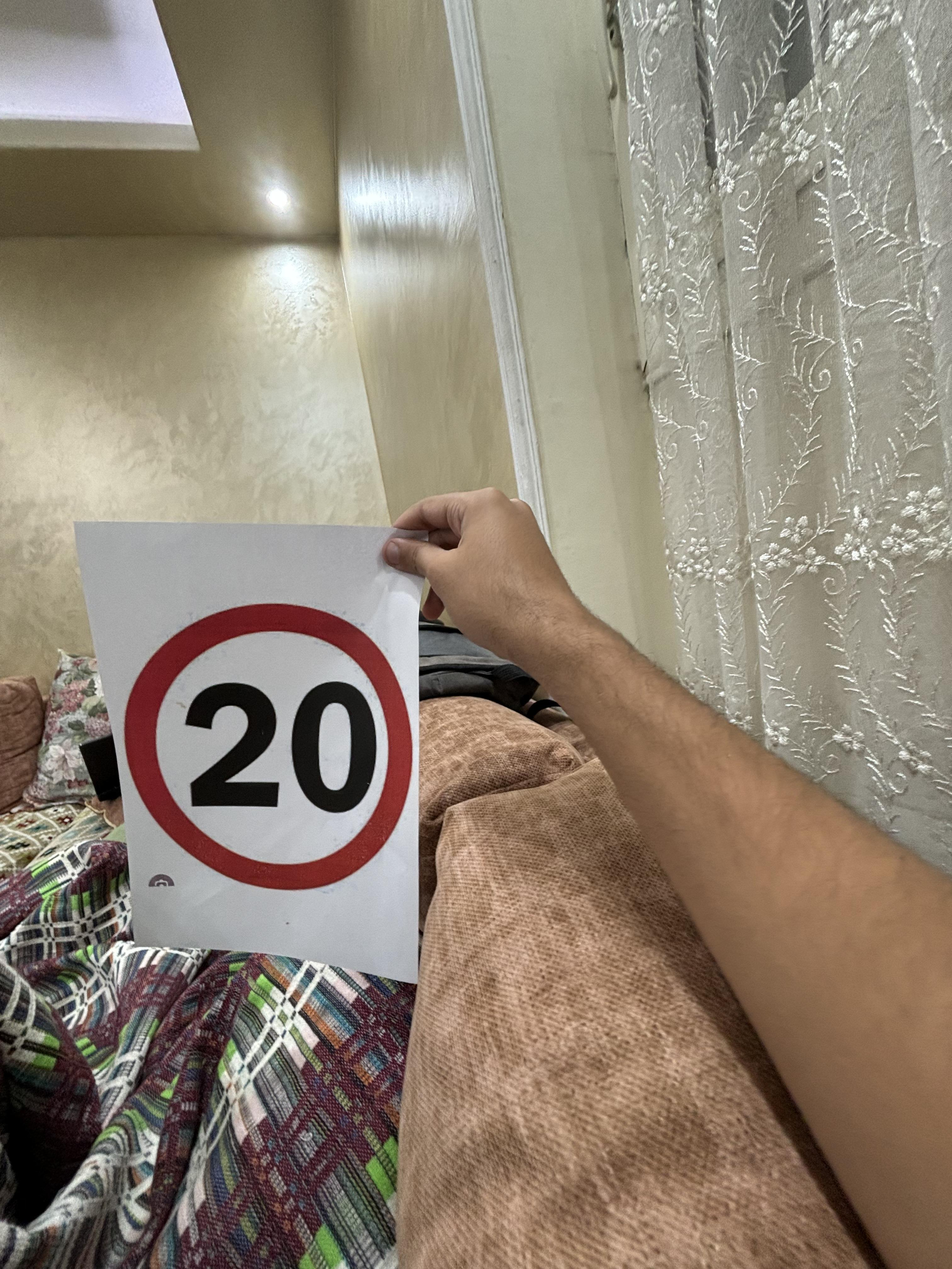20-Speed: (120, 592, 422, 898)
